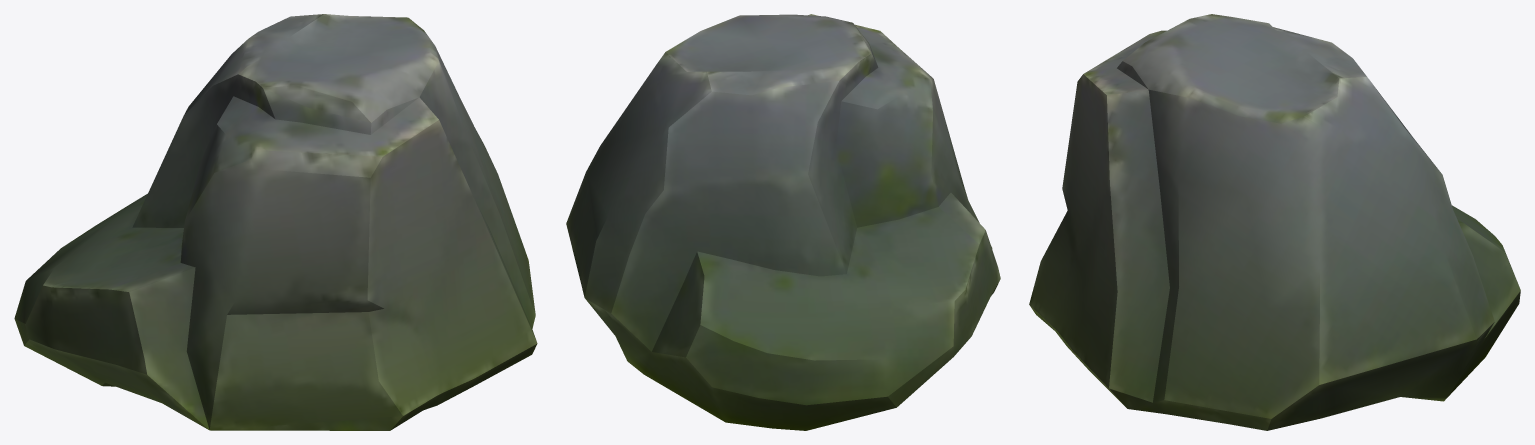
Rendered from rock-medium-s1oj3bbzqc-transformed.glb.
The picture shows the model from 3 angles, left to right: view 1: azimuth 30°, elevation 25°; view 2: azimuth 150°, elevation 25°; view 3: azimuth 270°, elevation 25°; orthographic projection. The views are drawn at different scales.
Visible parts, largest first — view 1: Rock_Medium_1; view 2: Rock_Medium_1; view 3: Rock_Medium_1.
Part boxes in pixels (left/top/right/bottom): Rock_Medium_1: left=14, top=14, right=537, bottom=430; Rock_Medium_1: left=566, top=14, right=1000, bottom=430; Rock_Medium_1: left=1029, top=14, right=1520, bottom=430.
Bounding box in the file's own units: 3.23 × 2.26 × 2.99.
Materials: 1 (1 with a texture image).
